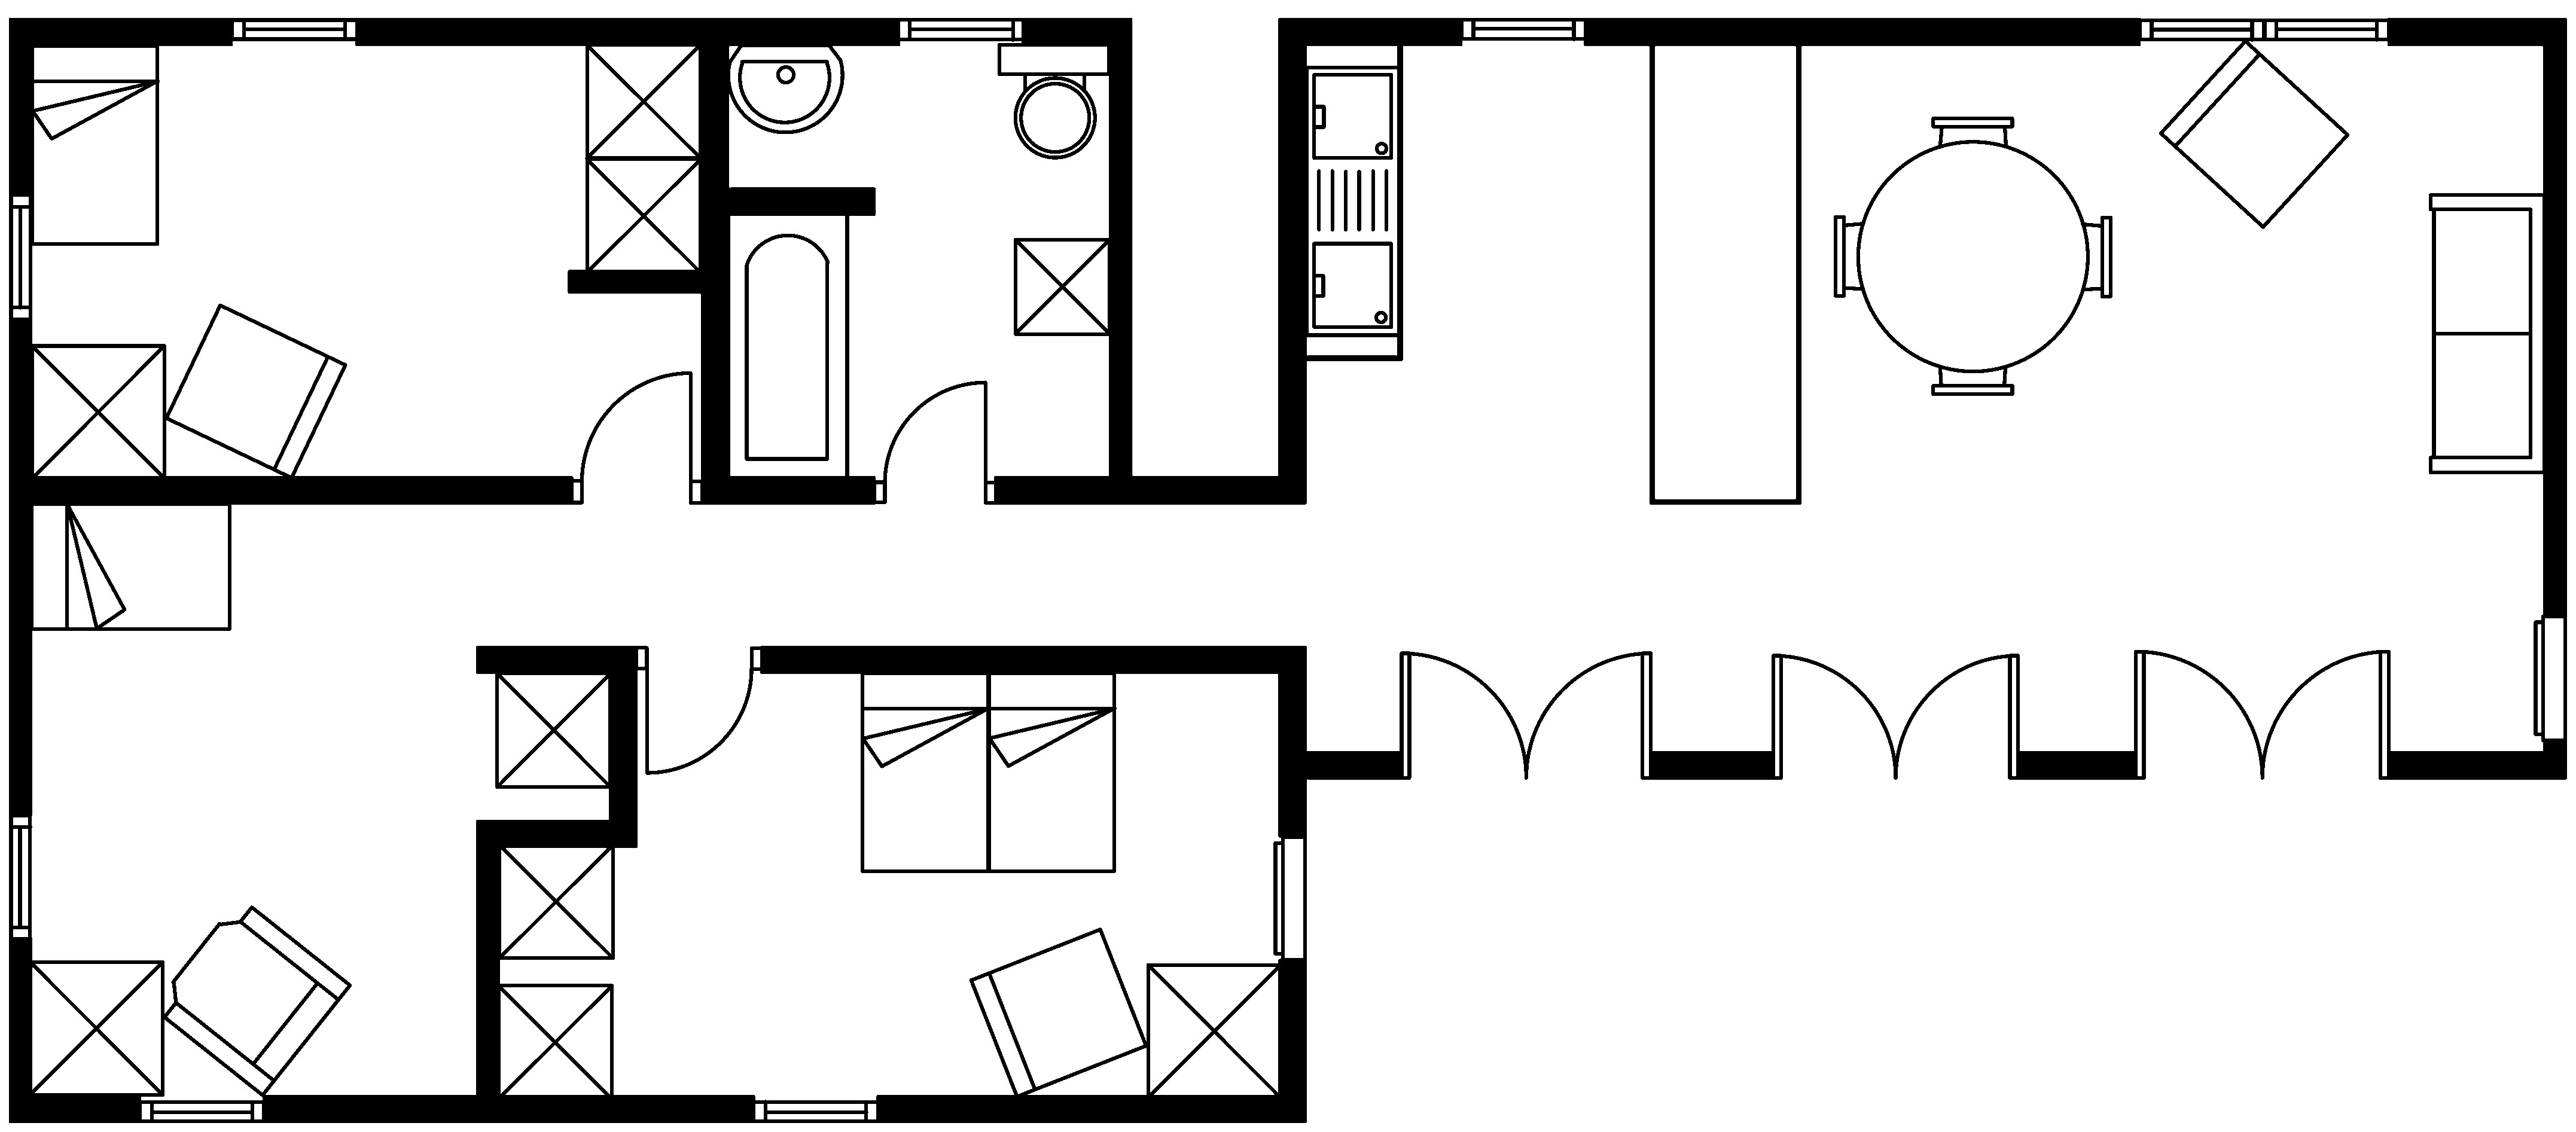armchair: (161, 905, 352, 1097)
bed: (859, 670, 991, 872), (986, 670, 1117, 872), (28, 501, 232, 631), (30, 43, 159, 246)
coffee_table: (26, 959, 164, 1097), (1145, 963, 1283, 1099), (30, 343, 166, 480), (494, 982, 614, 1101), (583, 41, 702, 161), (494, 670, 613, 789), (496, 841, 614, 959), (585, 156, 702, 274), (1012, 237, 1112, 337)
large_sink: (997, 41, 1111, 158)
large_sofa: (2428, 192, 2546, 475)
round_table: (1832, 115, 2113, 396)
small_sink: (726, 43, 843, 133)
small_sofa: (2159, 38, 2349, 228), (163, 302, 347, 480), (968, 927, 1148, 1099)
tub: (726, 210, 849, 483)
twin_sink: (1304, 64, 1401, 337)
